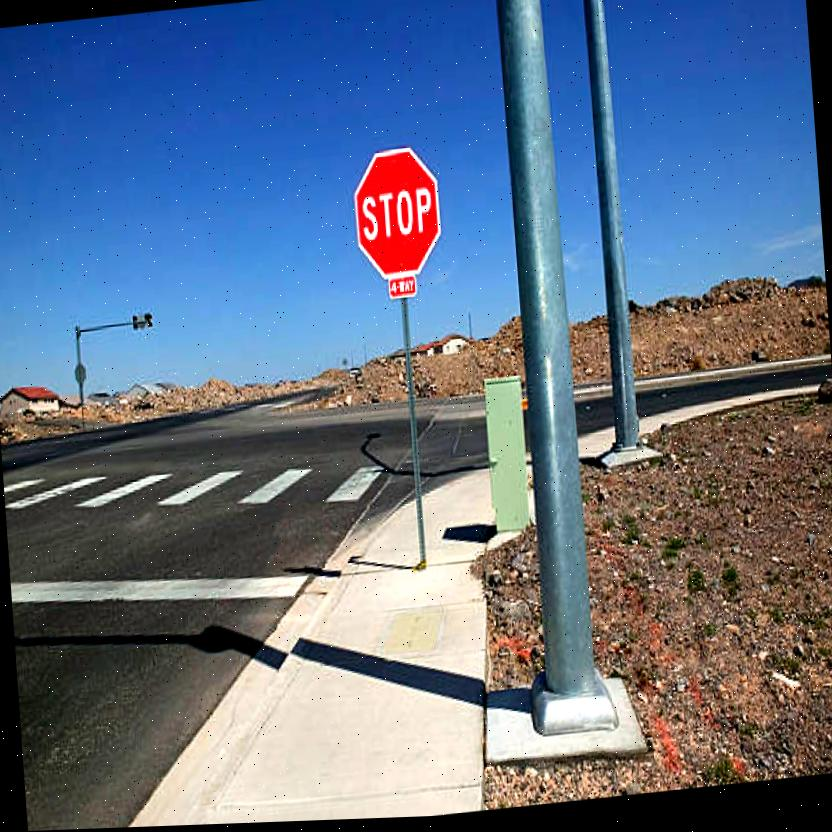Pole: (398, 301, 428, 572)
Sign: (350, 150, 444, 284)
